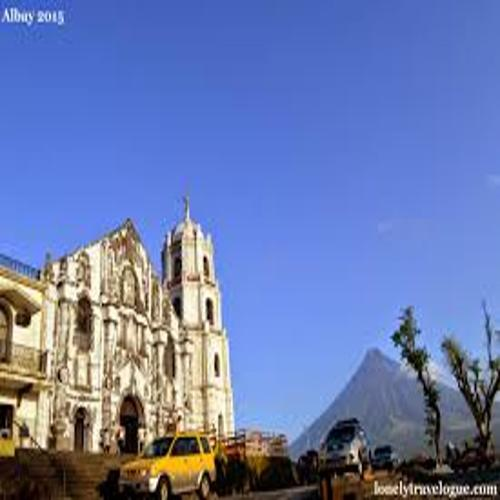Daraga Church: (44, 181, 238, 458)
